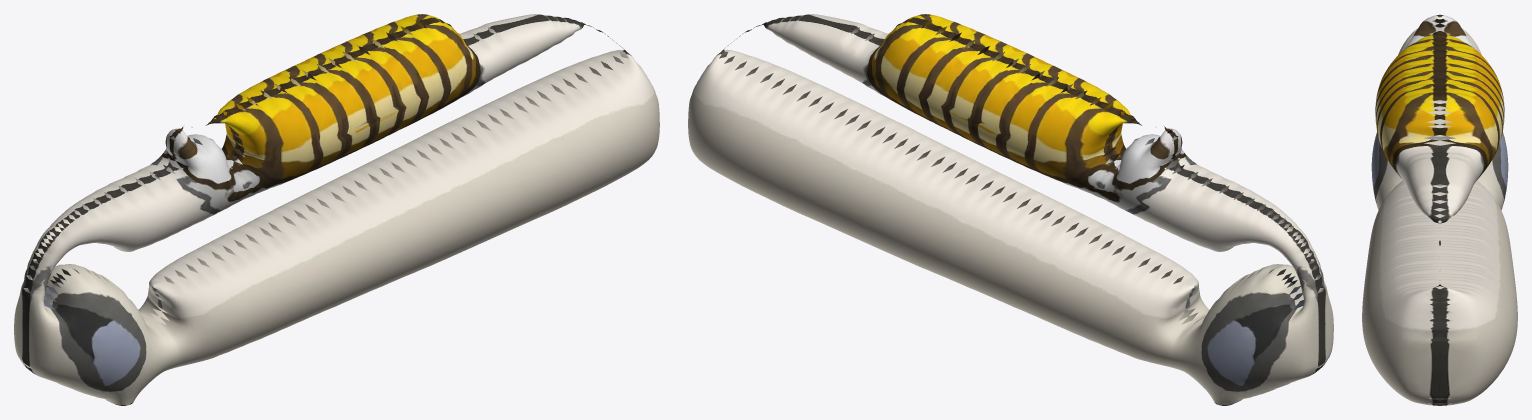
The model's file is hinge_housing.glb.
3 renders of one model, left to right at view 1: azimuth 30°, elevation 25°; view 2: azimuth 150°, elevation 25°; view 3: azimuth 270°, elevation 25°, orthographic. The views are drawn at different scales.
Parts seen in each view (by area): view 1: hinge_housing; view 2: hinge_housing; view 3: hinge_housing.
Part boxes in pixels (x1,y1,x2,y2): hinge_housing: (14,14,659,405); hinge_housing: (688,14,1333,405); hinge_housing: (1362,14,1517,405).
Bounding box in the file's own units: 0.989 × 0.4398 × 0.1963.
Materials: 1 (1 with a texture image).
